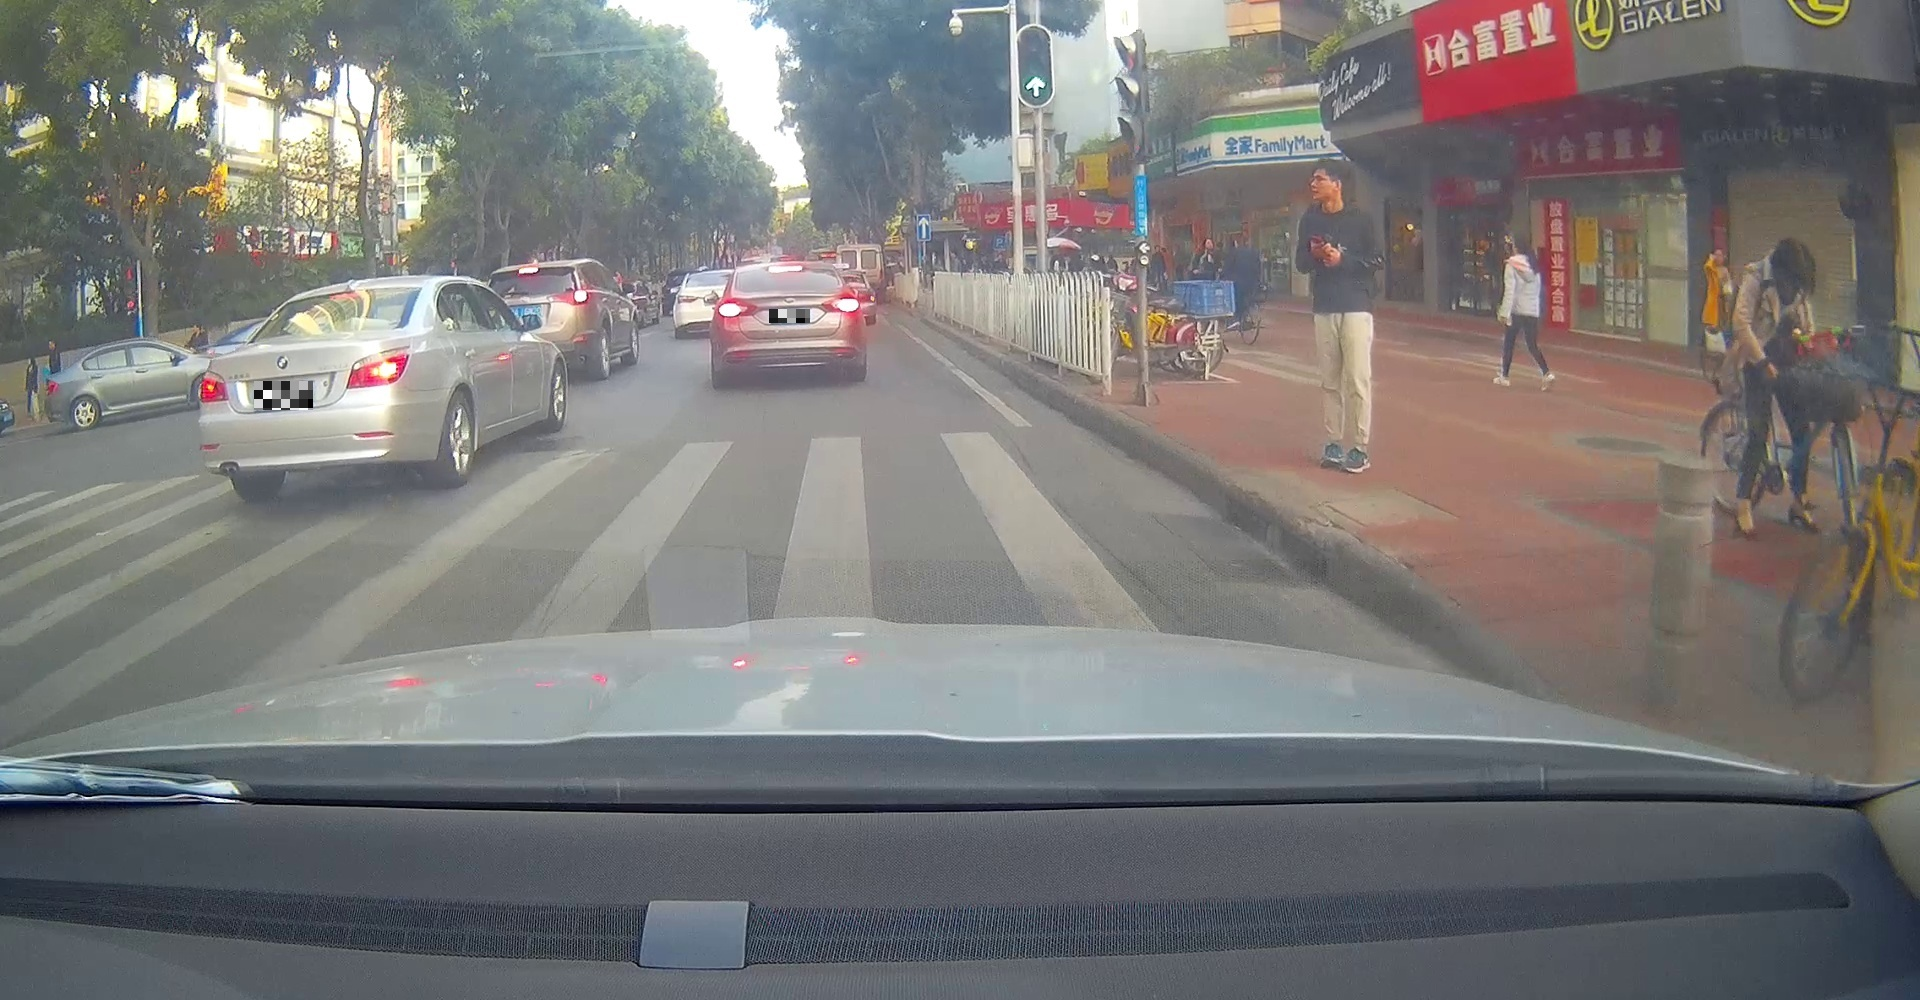L_light: (199, 371, 229, 402), (716, 299, 756, 317)
R_light: (345, 345, 411, 390), (822, 293, 861, 313)
T_light: (768, 264, 803, 273), (329, 291, 361, 299)
day-brake: (199, 275, 437, 503), (710, 261, 867, 390)
plate_1: (254, 381, 312, 410)
plate_2: (770, 308, 810, 324)
